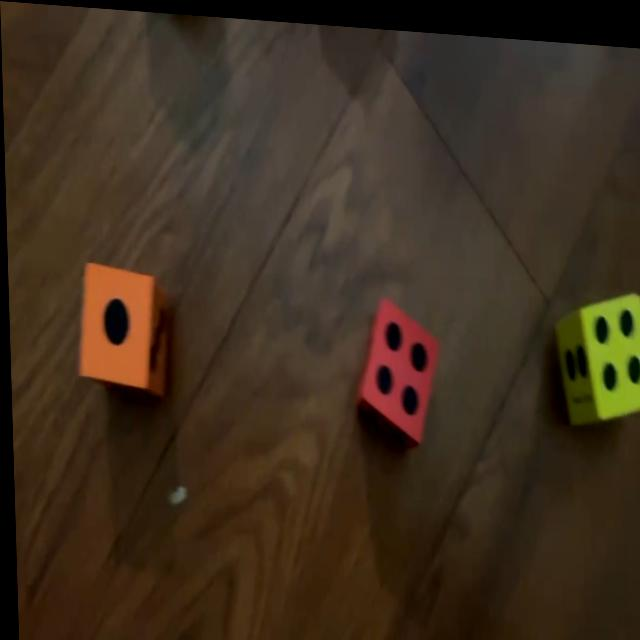red_block: (352, 293, 440, 440)
